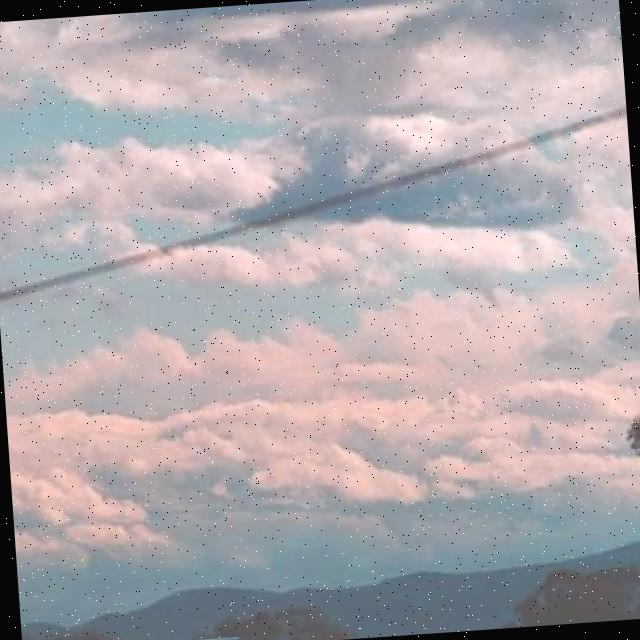Ci: (1, 177, 640, 529)
